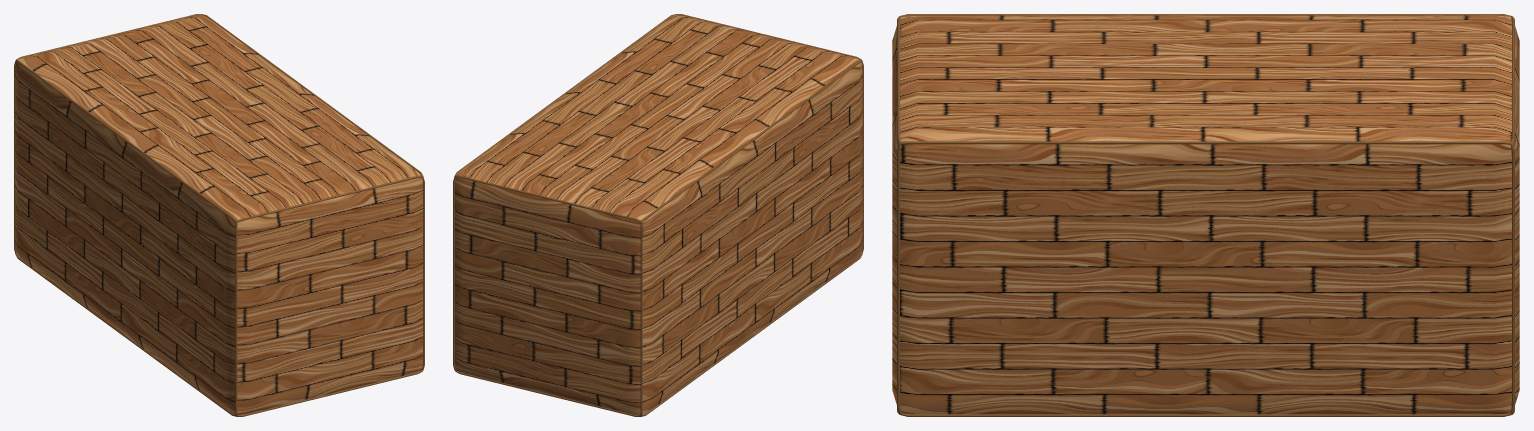
The model's file is SM_SoftFoam_Wall_Box_1x1x2M.fbx.
3 renders of one model, left to right at view 1: azimuth 30°, elevation 25°; view 2: azimuth 150°, elevation 25°; view 3: azimuth 270°, elevation 25°, orthographic. The views are drawn at different scales.
Parts seen in each view (by area): view 1: SM_SoftFoam_1x1x2_Box; view 2: SM_SoftFoam_1x1x2_Box; view 3: SM_SoftFoam_1x1x2_Box.
Boxes of the visible parts, x1,y1,x2,y2 form: SM_SoftFoam_1x1x2_Box: [14, 14, 424, 416]; SM_SoftFoam_1x1x2_Box: [453, 14, 863, 416]; SM_SoftFoam_1x1x2_Box: [892, 14, 1519, 416].
Bounding box in the file's own units: 100 × 100 × 200.
